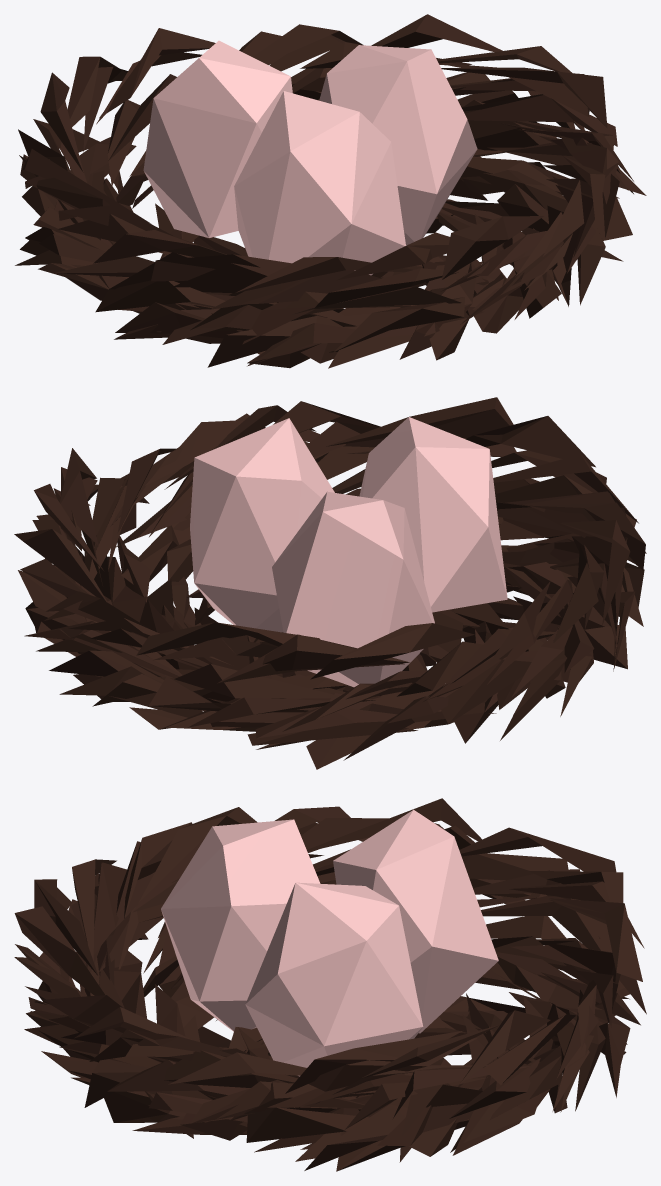
Rendered from Nest_25_LOD2.fbx.
3 renders of one model, top to bottom at view 1: azimuth 30°, elevation 25°; view 2: azimuth 150°, elevation 25°; view 3: azimuth 270°, elevation 25°, orthographic. The views are drawn at different scales.
Parts seen in each view (by area): view 1: Nest_25_LOD2; view 2: Nest_25_LOD2; view 3: Nest_25_LOD2.
Part boxes in pixels (left/top/right/bottom): Nest_25_LOD2: left=15, top=14, right=646, bottom=368; Nest_25_LOD2: left=14, top=397, right=646, bottom=769; Nest_25_LOD2: left=14, top=798, right=646, bottom=1171.
Size of the model in its own units: 72.72 by 28.43 by 70.8.
